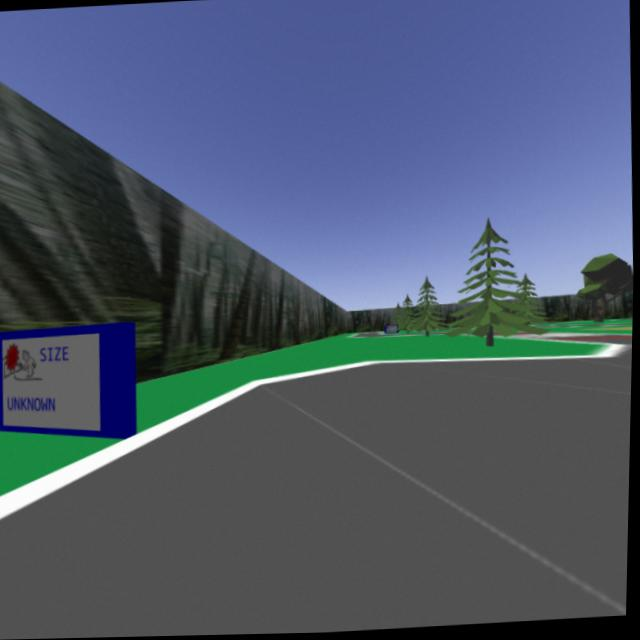clueboard: (0, 318, 144, 452)
